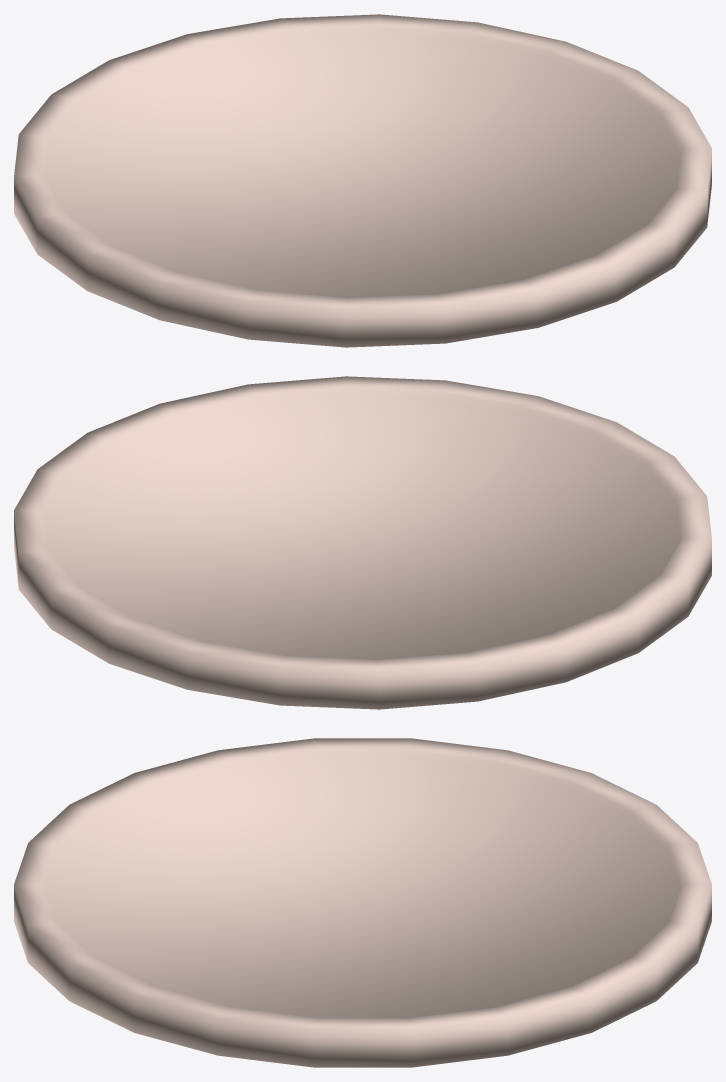
File: coin.glb
The picture shows the model from 3 angles, top to bottom: view 1: azimuth 30°, elevation 25°; view 2: azimuth 150°, elevation 25°; view 3: azimuth 270°, elevation 25°; orthographic projection.
Visible parts, largest first — view 1: Cylinder; view 2: Cylinder; view 3: Cylinder.
Boxes of the visible parts, left/top/right/bottom form: Cylinder: left=14, top=14, right=711, bottom=347; Cylinder: left=14, top=376, right=711, bottom=709; Cylinder: left=14, top=738, right=711, bottom=1067.
Size of the model in its own units: 1.98 by 0.1171 by 2.
